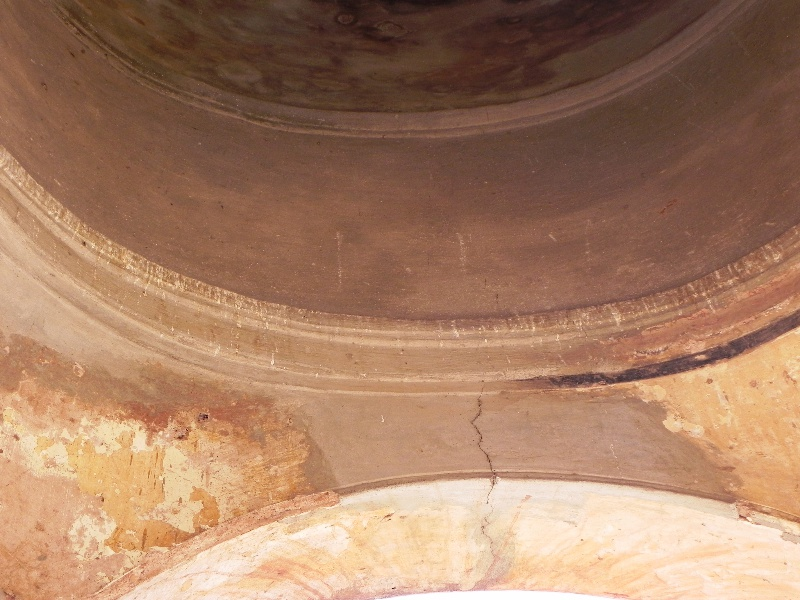Crack: (463, 386, 506, 476), (477, 479, 500, 576)
